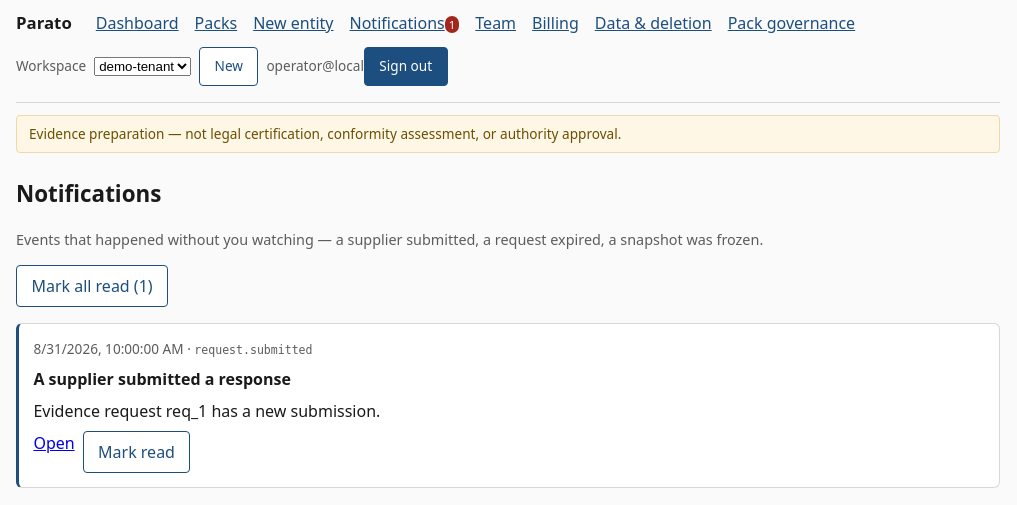
Test: NotificationsPage › lists notifications and marks one read
Expected: the text "A supplier submitted a response" is shown, [33,368,291,390]
Click the button "Mark read": x=136, y=452 [83,431,190,473]
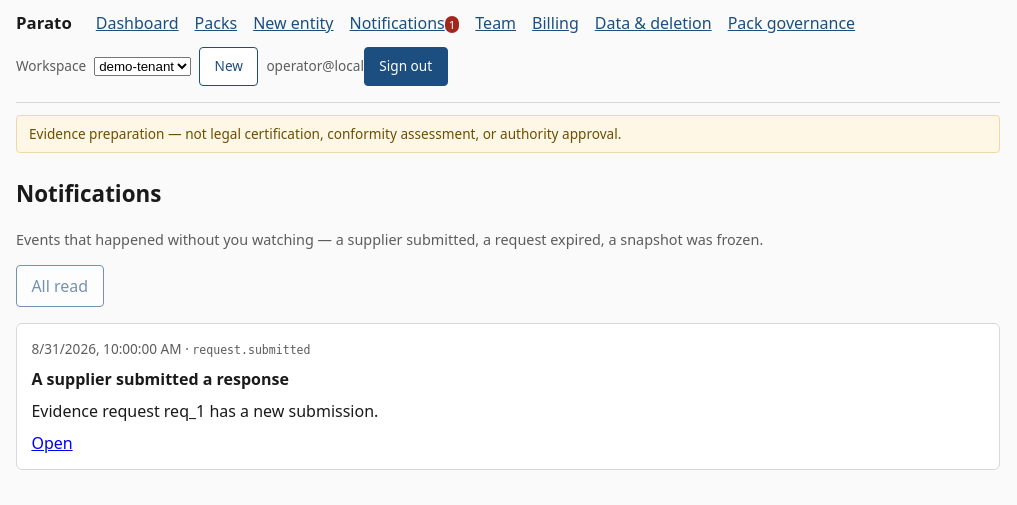
Expected: the button "Mark read" is gone
